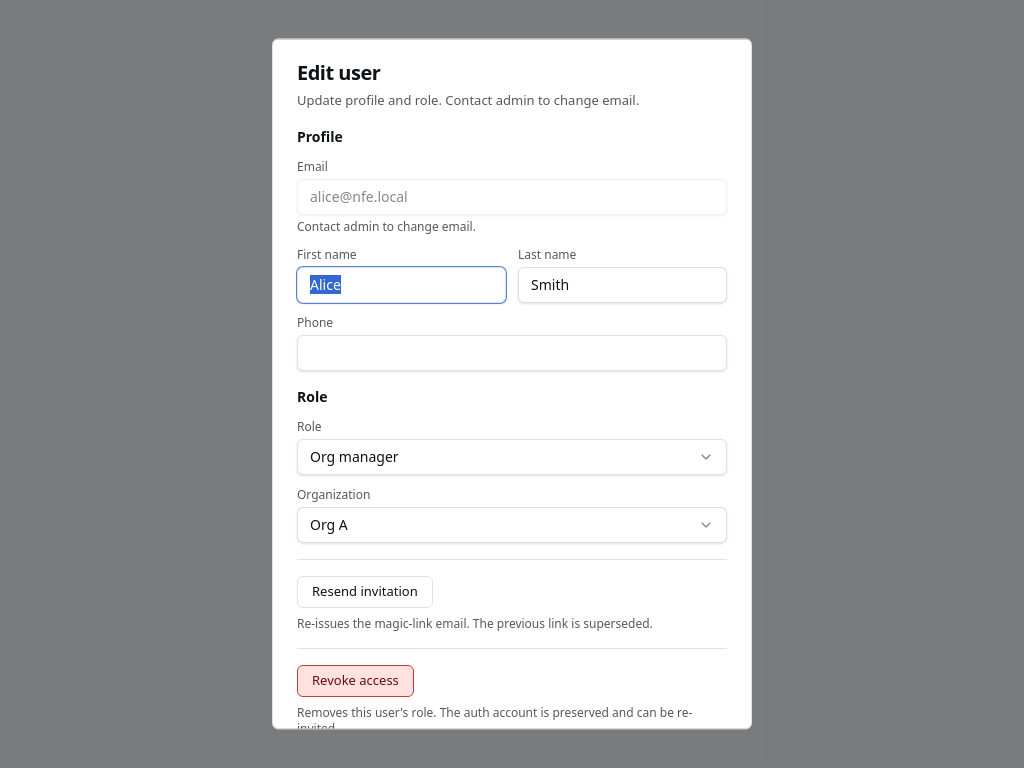
it: EditUserDialog — render › opens the confirm dialog when Revoke is clicked
This screenshot has width=1024, height=768.
// Exactly one button is "Revoke access" — the trigger.
Click the button "Revoke access" at [355, 681], box [297,665,414,697]
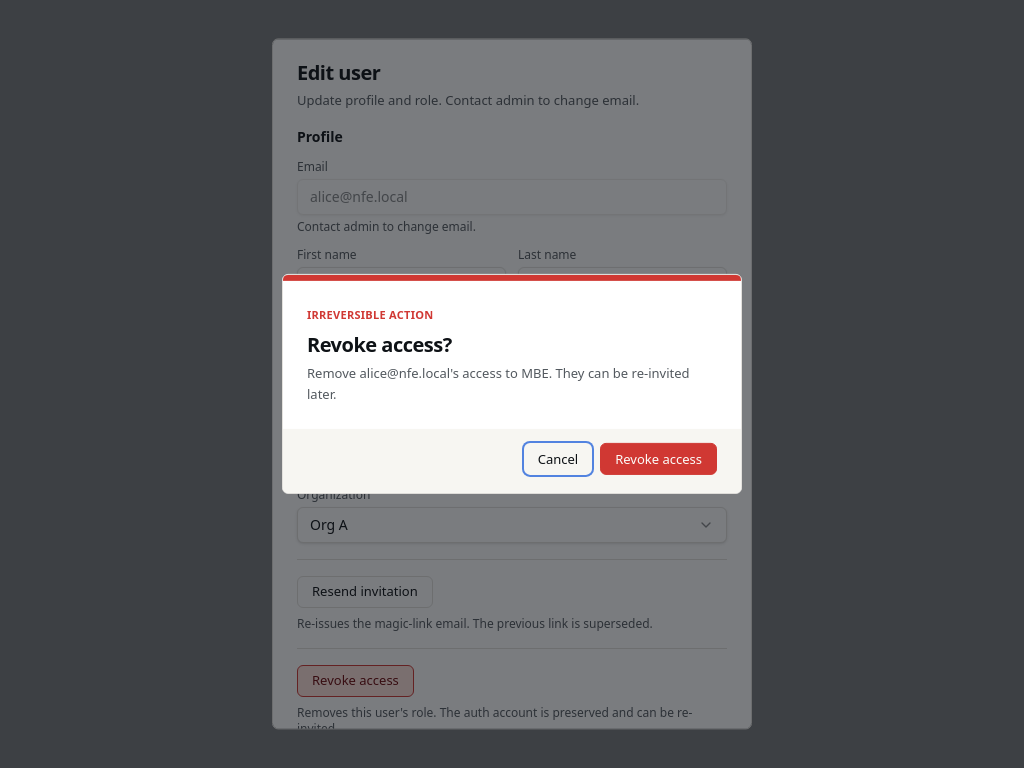
Expected: the heading "Revoke access?" is shown, [307,331,452,358]
